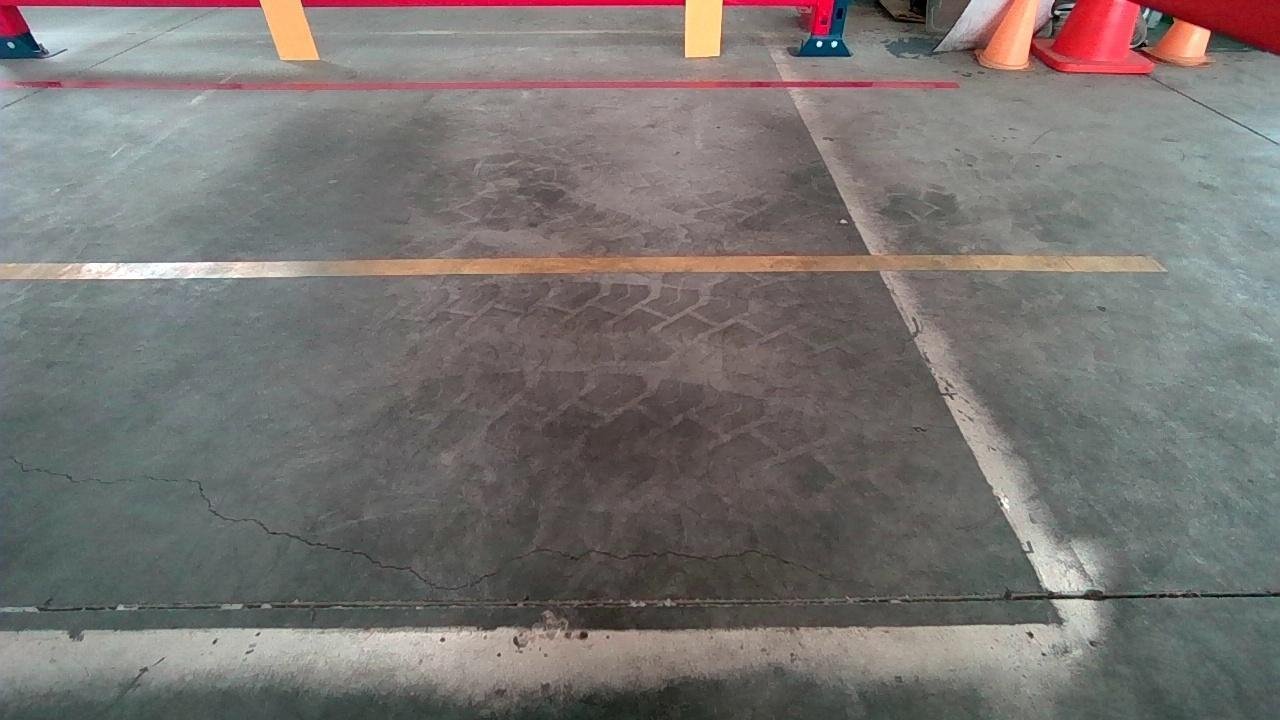orange_strip: (260, 0, 320, 59), (685, 0, 723, 54)
red_line: (0, 78, 963, 90)
yellow_line: (0, 251, 1169, 280)
